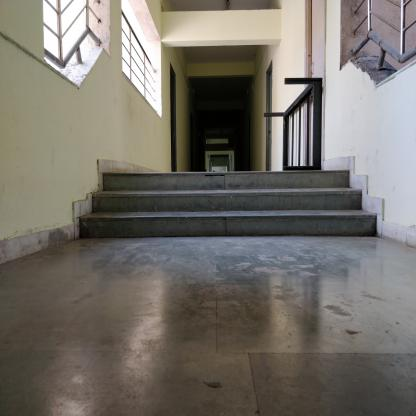stairs: (105, 170, 354, 243)
